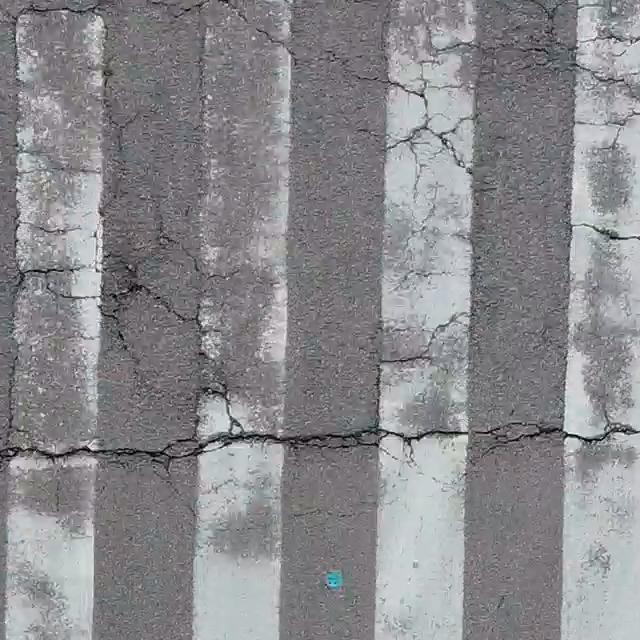GRIETA: (0, 422, 639, 478), (6, 304, 20, 433)
PIEL DE COCODRILO: (9, 0, 639, 429)
